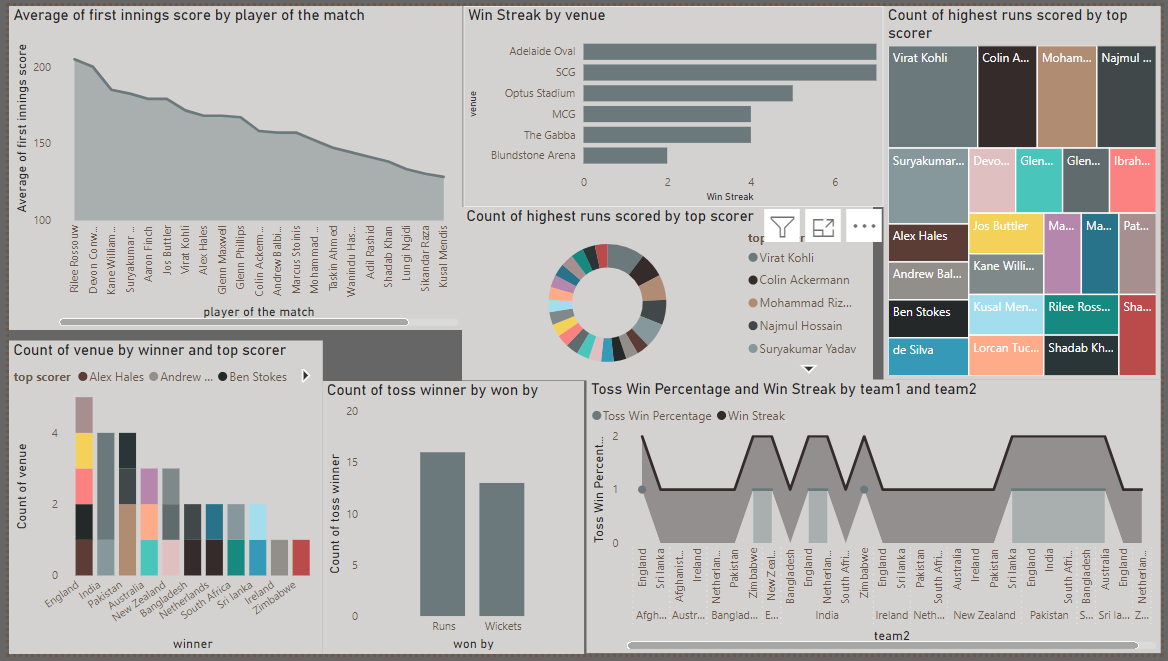

This screenshot's page, from the dashboard's own definition file:
{"tool":"powerbi","page":{"name":"Page 1","canvas":[1280,720],"ordinal":0},"visuals":[{"type":"areaChart","fields":{"Category":["T20 xlsx.player of the match"],"Y":["T20 xlsx.first innings score"]},"box":[0,0,504,360],"z":0},{"type":"clusteredColumnChart","fields":{"Category":["T20 xlsx.won by"],"Y":["T20 xlsx.toss winner"]},"box":[348.5,416.2,290.9,303.8],"z":1000},{"type":"treemap","fields":{"Group":["T20 xlsx.top scorer"],"Values":["T20 xlsx.highest runs scored"]},"box":[972.1,0,307.9,415.5],"z":2000},{"type":"columnChart","fields":{"Category":["T20 xlsx.winner"],"Y":["T20 xlsx.venue"],"Series":["T20 xlsx.top scorer"]},"box":[0,371,348.8,348.8],"z":3000},{"type":"donutChart","fields":{"Category":["T20 xlsx.top scorer"],"Y":["T20 xlsx.highest runs scored"]},"box":[504,223.2,456.5,193],"z":4000},{"type":"clusteredBarChart","fields":{"Category":["T20 xlsx.venue"],"Y":["T20 xlsx.Win Streak"]},"box":[504.6,0,467.5,222.6],"z":5000},{"type":"stackedAreaChart","fields":{"Category":["T20 xlsx.team1","T20 xlsx.team2"],"Y":["T20 xlsx.Toss Win Percentage","T20 xlsx.Win Streak"]},"box":[641.9,415.5,638.1,304.2],"z":6000}]}

Visuals, with their boxes in screenshot pixels (x1, y1, x2, y2), scaled from the page's 1280x720 canvas onto the 1168x661 screenshot:
areaChart - T20 xlsx.player of the match x T20 xlsx.first innings score: BBox(0, 0, 460, 330)
clusteredColumnChart - T20 xlsx.won by x T20 xlsx.toss winner: BBox(318, 382, 583, 660)
treemap - T20 xlsx.top scorer x T20 xlsx.highest runs scored: BBox(887, 0, 1167, 381)
columnChart - T20 xlsx.winner x T20 xlsx.venue: BBox(0, 341, 318, 660)
donutChart - T20 xlsx.top scorer x T20 xlsx.highest runs scored: BBox(460, 205, 876, 382)
clusteredBarChart - T20 xlsx.venue x T20 xlsx.Win Streak: BBox(460, 0, 887, 204)
stackedAreaChart - T20 xlsx.team1 x T20 xlsx.team2: BBox(586, 381, 1167, 660)
